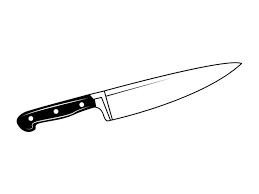Knife: (16, 61, 242, 132)
